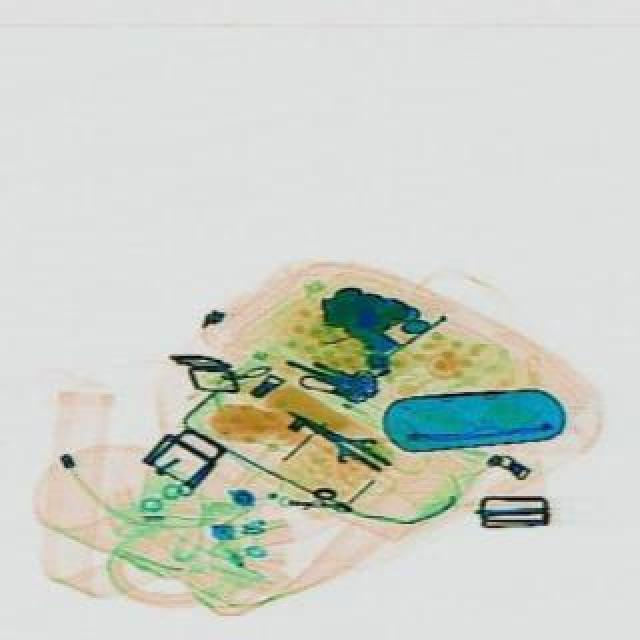knife: (276, 396, 396, 480)
